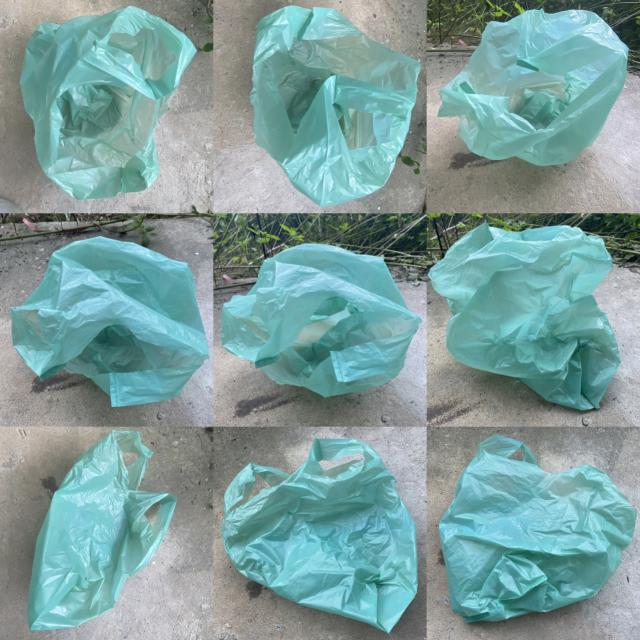Single-layer Plastic: (221, 439, 418, 632), (440, 435, 636, 622), (430, 224, 620, 410), (250, 6, 420, 206), (20, 6, 196, 199), (11, 236, 209, 406), (221, 244, 421, 396), (28, 430, 176, 630), (439, 10, 628, 165)
